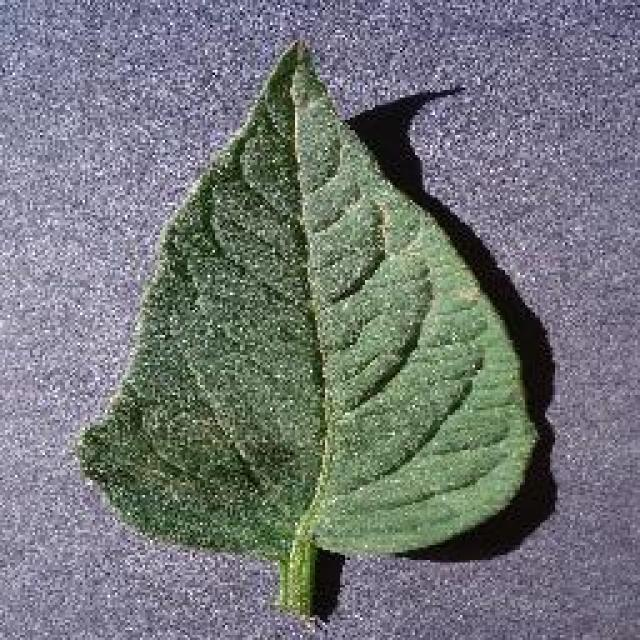Healthy: (55, 22, 550, 640)
